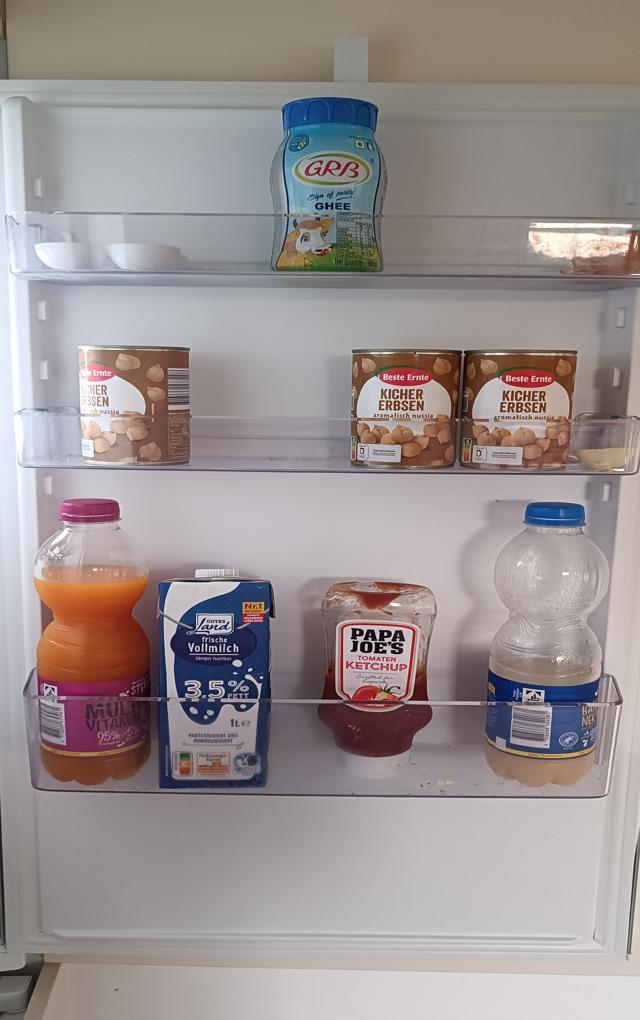bananajuice: (487, 502, 612, 788)
chickpeas: (461, 354, 576, 474), (79, 347, 192, 468), (353, 348, 460, 470)
ghee: (268, 97, 393, 280)
milk: (156, 566, 277, 791)
orangejuice: (33, 495, 154, 787)
tomatoketchup: (317, 580, 436, 779)
